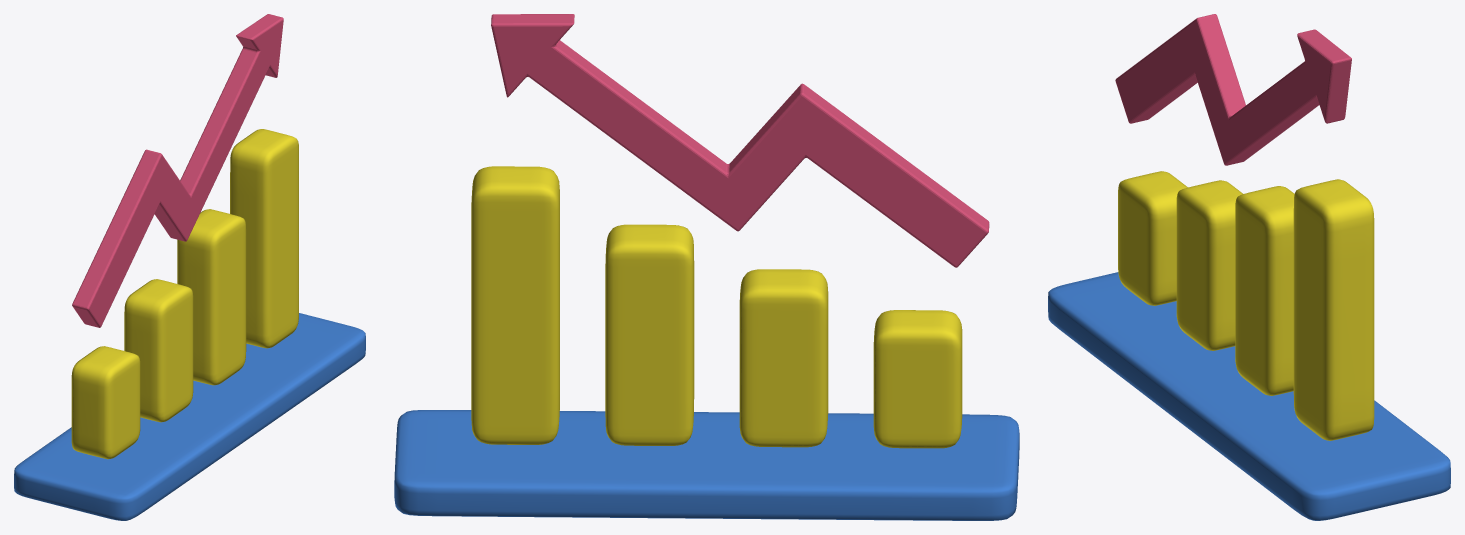
The model's file is growth-hacking-3d-animated-icon-431138532539.glb.
3 renders of one model, left to right at view 1: azimuth 30°, elevation 25°; view 2: azimuth 150°, elevation 25°; view 3: azimuth 270°, elevation 25°, orthographic. The views are drawn at different scales.
Parts seen in each view (by area): view 1: Plane.083, Plane.084, Plane.082, Plane.003, Plane.002, Plane.001; view 2: Plane.083, Plane.084, Plane.082, Plane.003, Plane.002, Plane.001; view 3: Plane.083, Plane.082, Plane.084, Plane.003, Plane.002, Plane.001.
Boxes of the visible parts, left/top/right/bottom form: Plane.083: left=14, top=313, right=365, bottom=520; Plane.084: left=72, top=14, right=283, bottom=327; Plane.082: left=230, top=129, right=298, bottom=348; Plane.003: left=177, top=209, right=246, bottom=385; Plane.002: left=124, top=279, right=193, bottom=422; Plane.001: left=71, top=346, right=140, bottom=459; Plane.083: left=394, top=410, right=1019, bottom=520; Plane.084: left=491, top=14, right=989, bottom=267; Plane.082: left=471, top=166, right=559, bottom=444; Plane.003: left=605, top=224, right=694, bottom=445; Plane.002: left=739, top=269, right=828, bottom=447; Plane.001: left=873, top=310, right=962, bottom=448; Plane.083: left=1048, top=272, right=1450, bottom=520; Plane.082: left=1293, top=179, right=1374, bottom=440; Plane.084: left=1115, top=14, right=1351, bottom=165; Plane.003: left=1235, top=186, right=1294, bottom=395; Plane.002: left=1176, top=180, right=1242, bottom=350; Plane.001: left=1118, top=171, right=1187, bottom=305.
Size of the model in its own units: 8.17 by 6.74 by 5.88.
